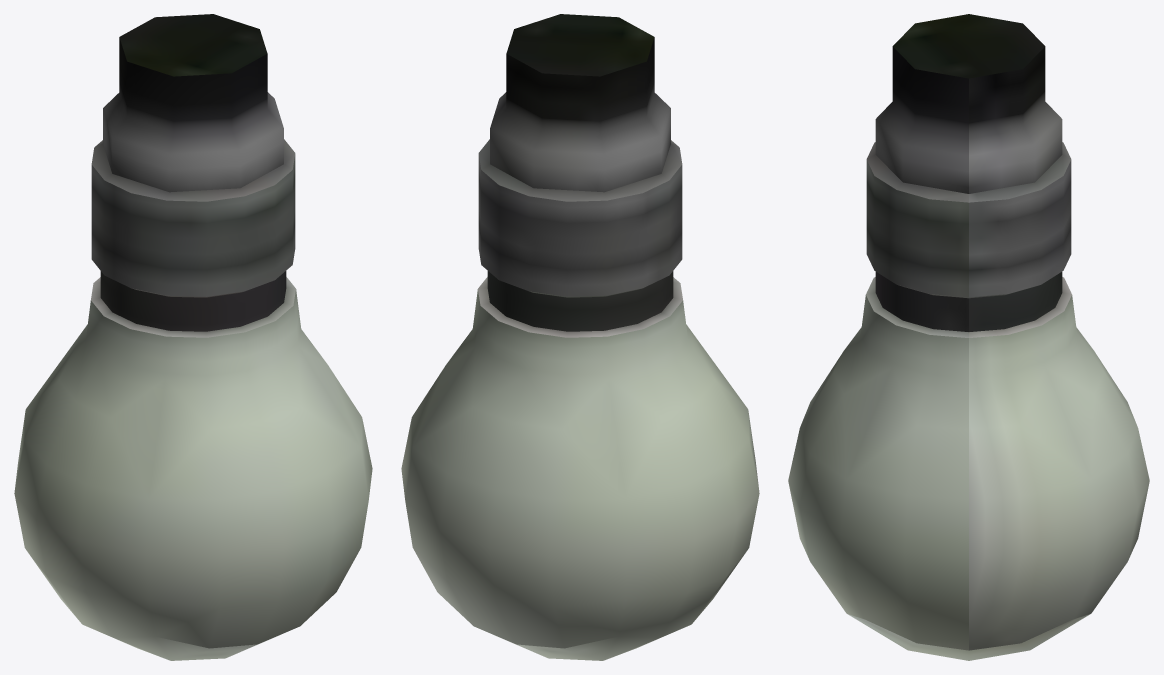
The model's file is bulb.glb.
The picture shows the model from 3 angles, left to right: view 1: azimuth 30°, elevation 25°; view 2: azimuth 150°, elevation 25°; view 3: azimuth 270°, elevation 25°; orthographic projection.
Parts seen in each view (by area): view 1: Bulb_LOD0; view 2: Bulb_LOD0; view 3: Bulb_LOD0.
Boxes of the visible parts, x1=… form: Bulb_LOD0: x1=14, y1=14, x2=372, y2=660; Bulb_LOD0: x1=401, y1=14, x2=759, y2=660; Bulb_LOD0: x1=788, y1=14, x2=1149, y2=660.
Size of the model in its own units: 0.0537 by 0.0981 by 0.0537.
Materials: 1 (1 with a texture image).
